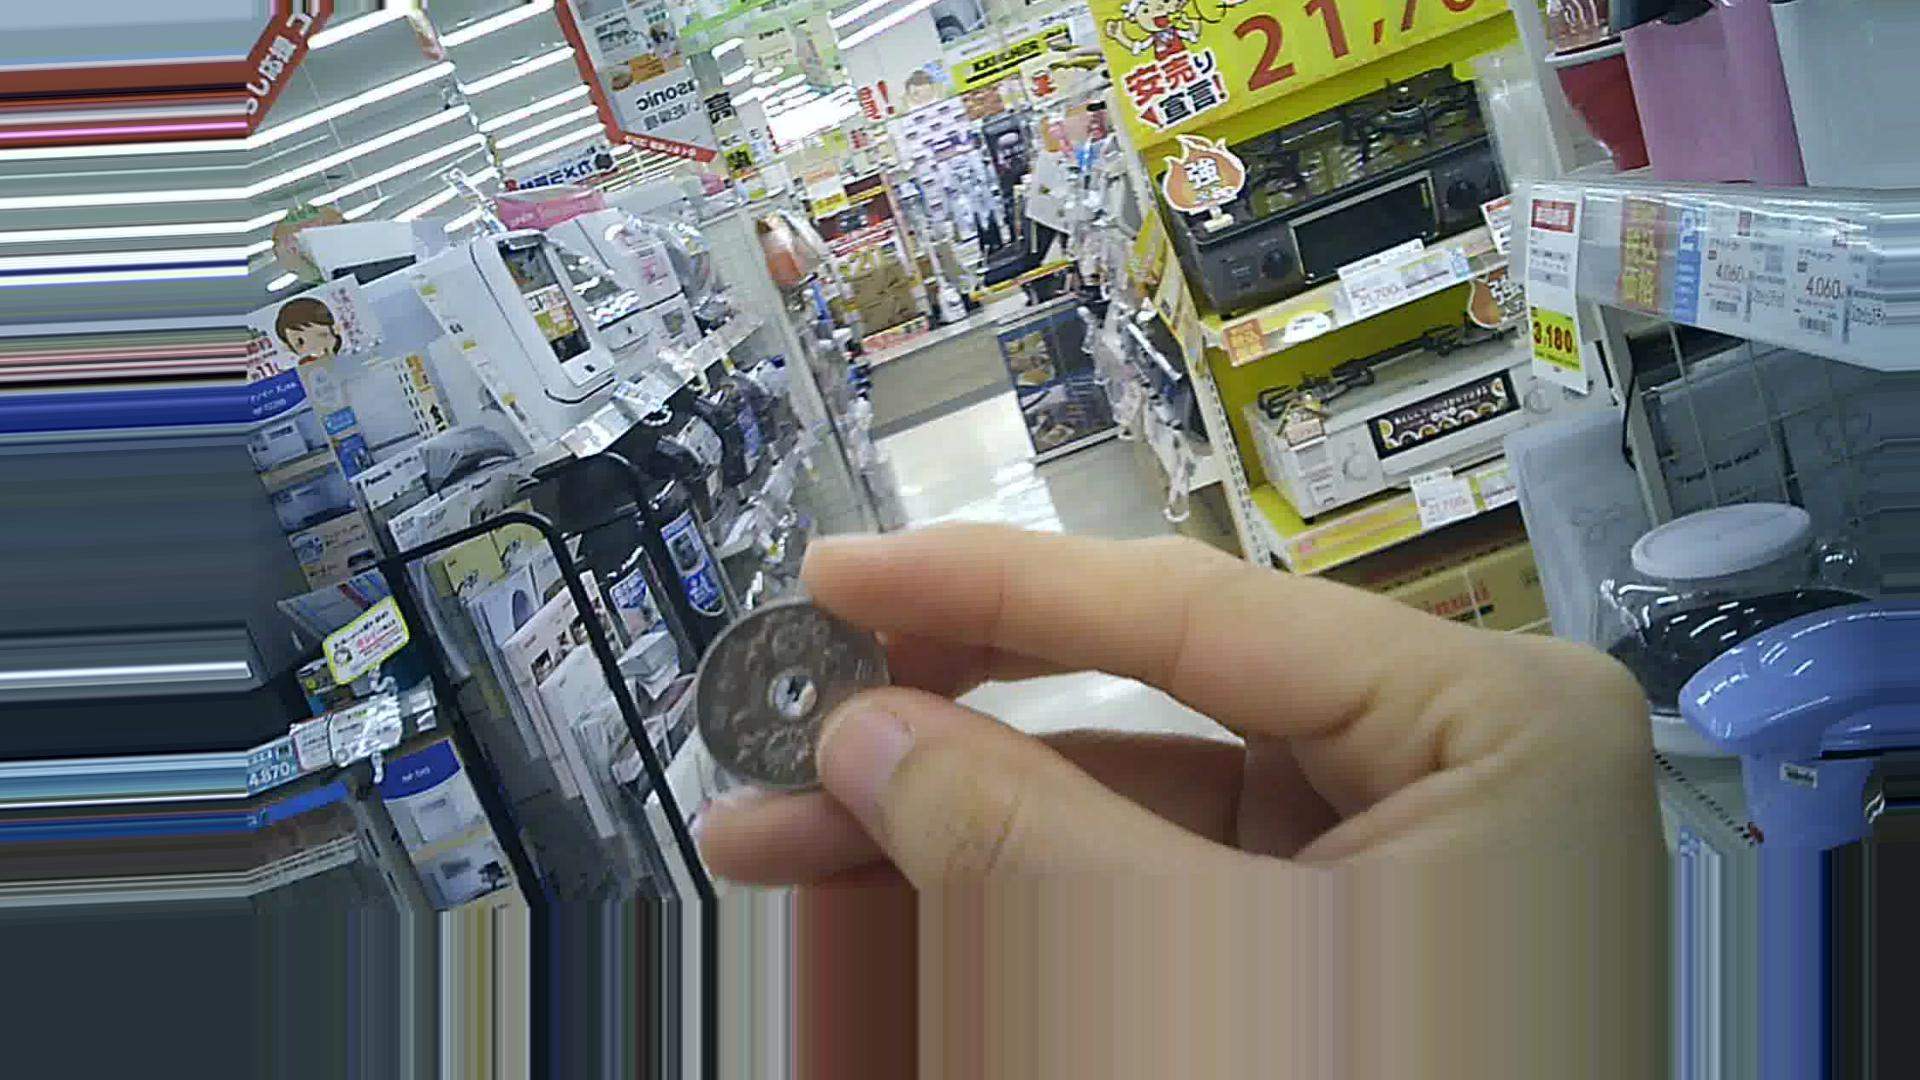50 Yen: (691, 595, 895, 794)
